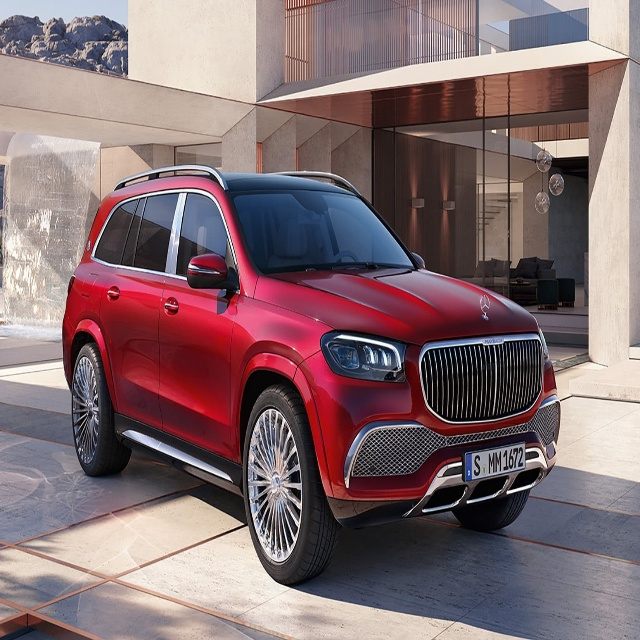Car: (62, 163, 561, 587)
